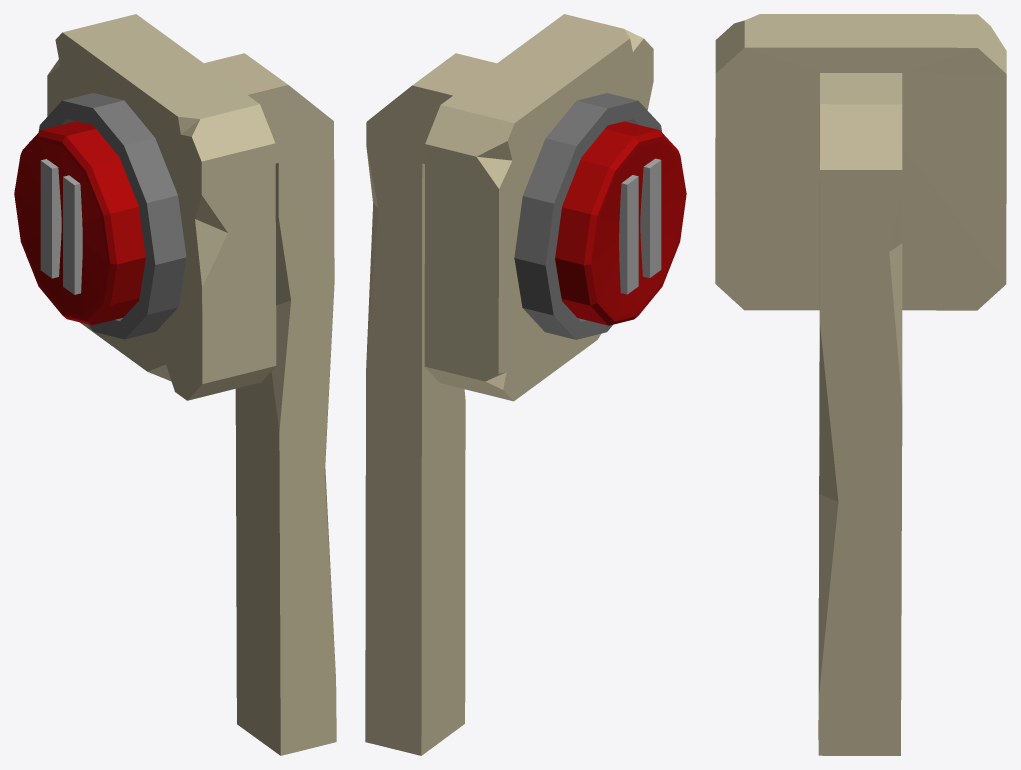
The model's file is SM_Bouton 1.fbx.
3 views of the same model, side by side, from view 1: azimuth 30°, elevation 25°; view 2: azimuth 150°, elevation 25°; view 3: azimuth 270°, elevation 25° (orthographic). The views are drawn at different scales.
Visible parts, largest first — view 1: polySurface2, polySurface1, polySurface4, polySurface3; view 2: polySurface2, polySurface1, polySurface3, polySurface4; view 3: polySurface2.
Part boxes in pixels (x1,y1,x2,y2): polySurface2: (38, 14, 336, 755); polySurface1: (14, 121, 145, 325); polySurface4: (40, 159, 61, 278); polySurface3: (63, 175, 82, 294); polySurface2: (365, 14, 662, 755); polySurface1: (555, 121, 686, 325); polySurface3: (640, 158, 661, 277); polySurface4: (619, 175, 638, 294); polySurface2: (715, 14, 1006, 755).
Bounding box in the file's own units: 2.59 × 6.69 × 2.7.
